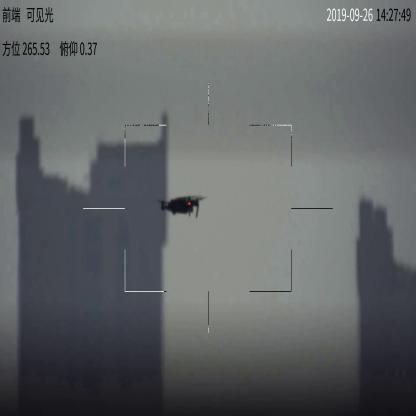uav: (153, 194, 204, 218)
